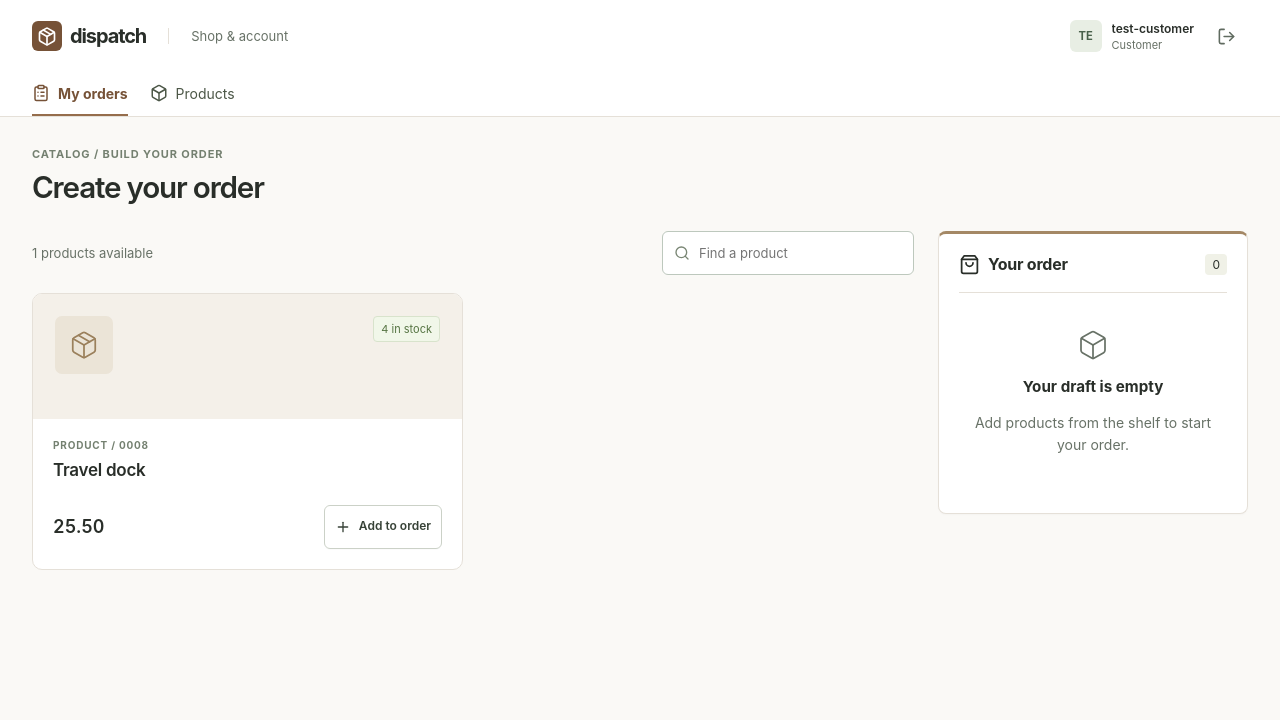
Test: retains checkout errors when a refreshed catalog removes cart items
Click the button "Add to order": [383, 527] box top-left (324, 505), bottom-right (442, 549)
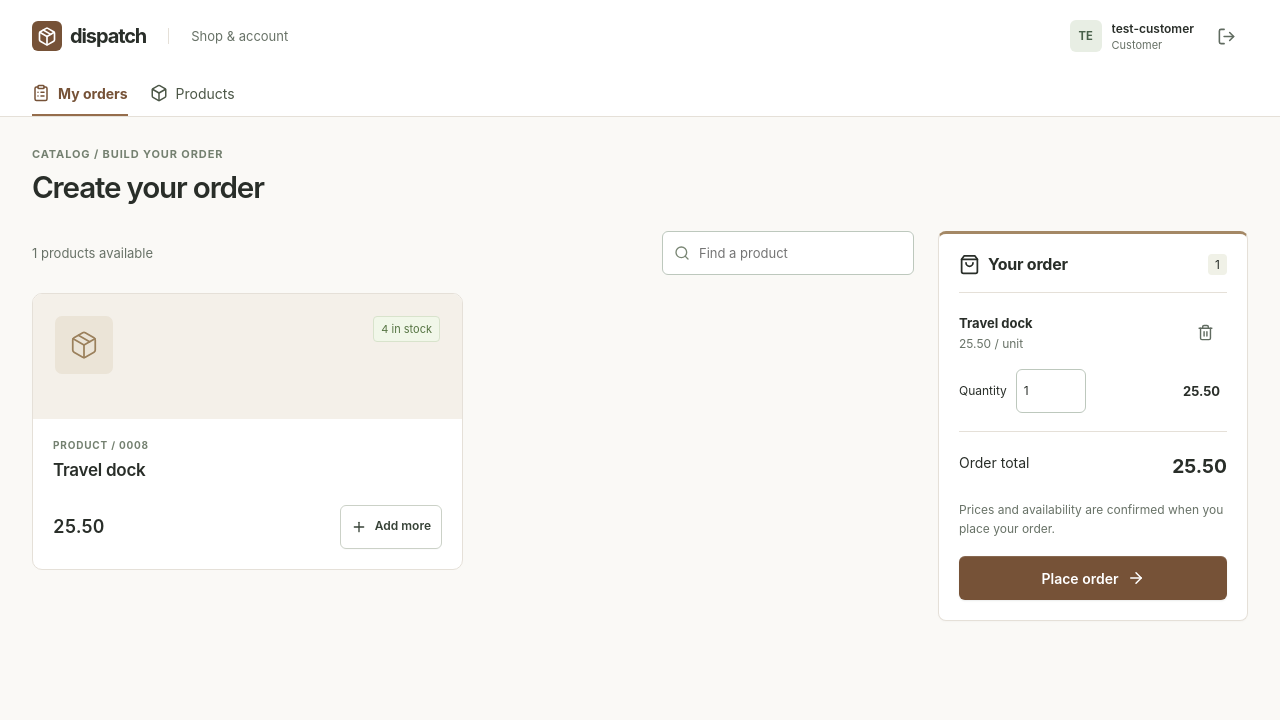
Click the button "Place order": [1093, 578] box top-left (959, 556), bottom-right (1227, 600)
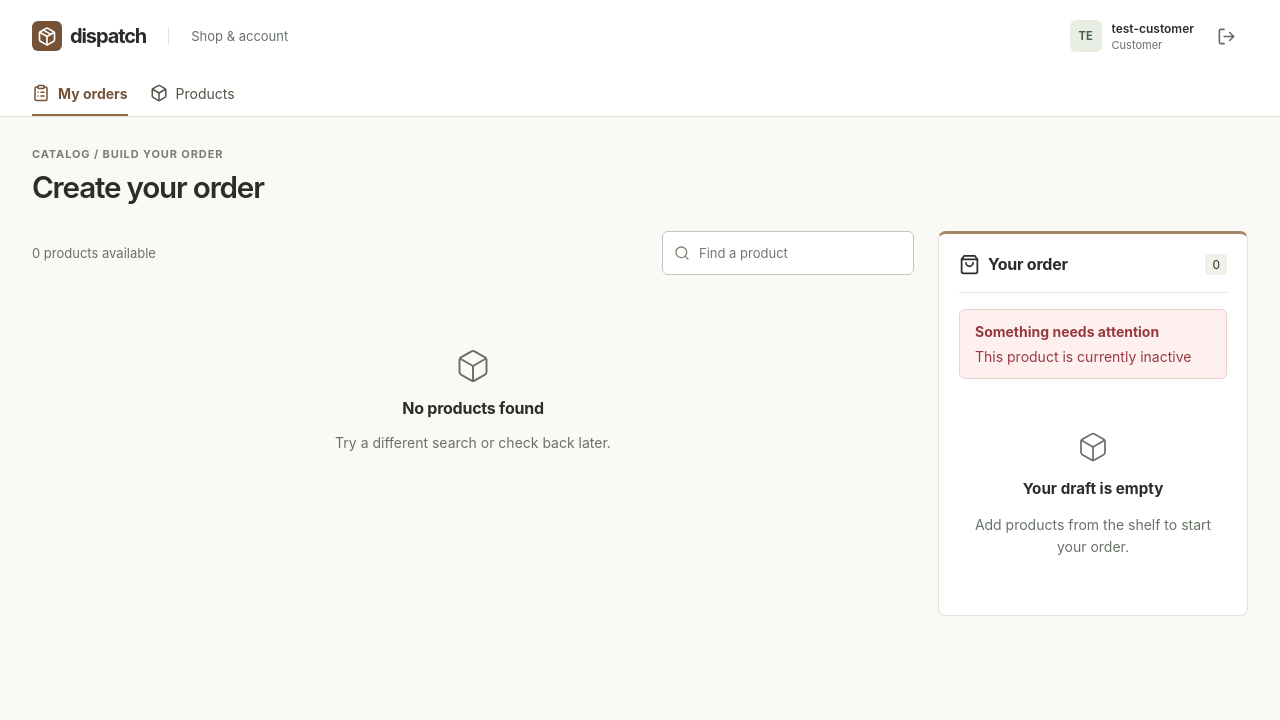
Now the message shows "currently inactive", box top-left (975, 348), bottom-right (1192, 365)
Now the heading "Your draft is empty" is shown, box top-left (1023, 479), bottom-right (1163, 498)
